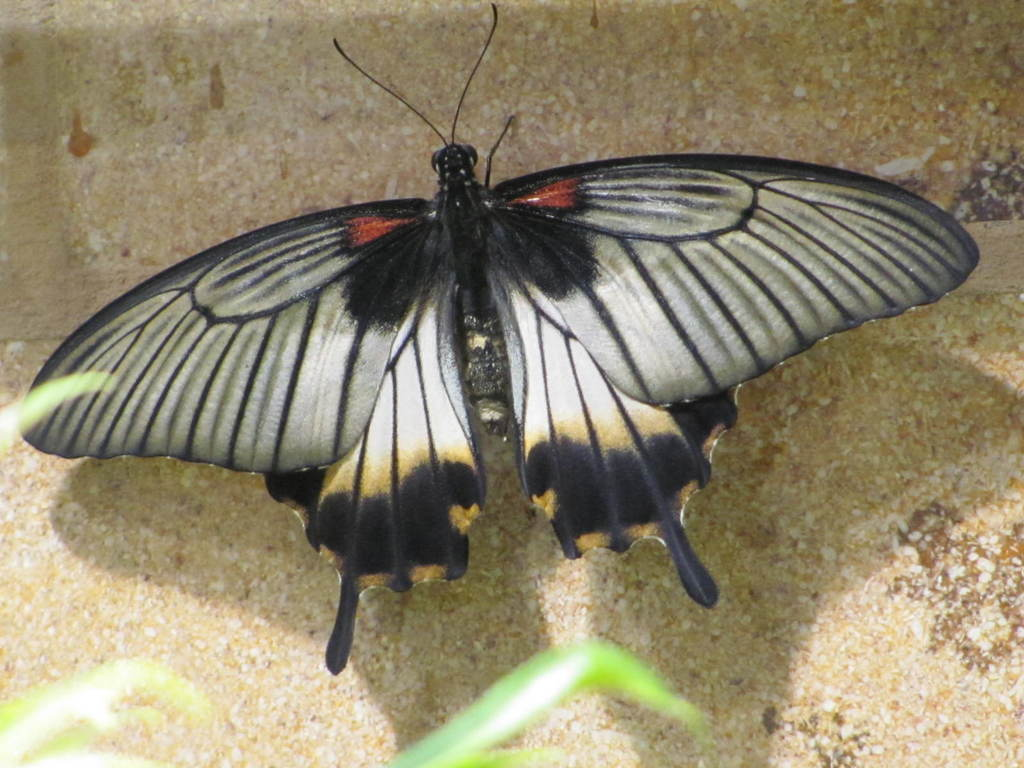Butterfly: (6, 125, 981, 594)
